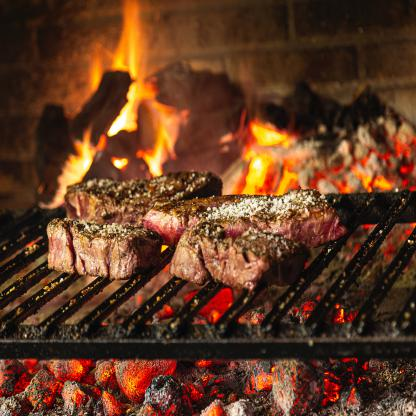Carne: (161, 195, 345, 272), (62, 167, 223, 236), (41, 217, 158, 272)
